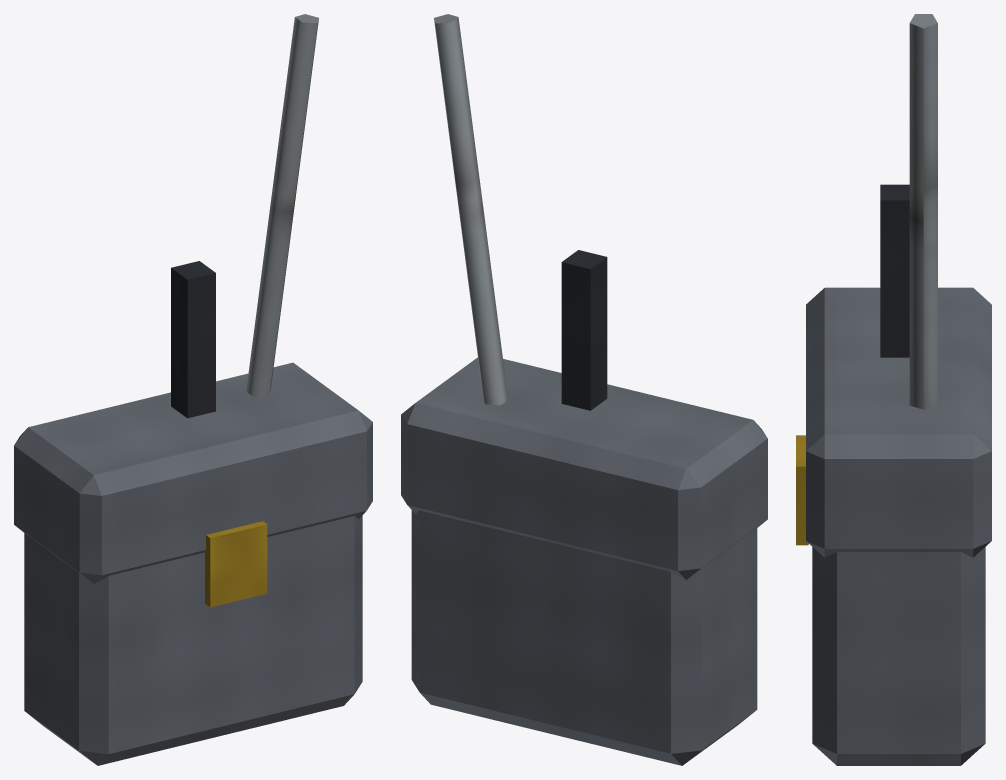
3 renders of one model, left to right at view 1: azimuth 30°, elevation 25°; view 2: azimuth 150°, elevation 25°; view 3: azimuth 270°, elevation 25°, orthographic. The views are drawn at different scales.
Visible parts, largest first — view 1: dweller_tool_scrapbag; view 2: dweller_tool_scrapbag; view 3: dweller_tool_scrapbag.
Part boxes in pixels (left/top/right/bottom): dweller_tool_scrapbag: left=14, top=14, right=372, bottom=765; dweller_tool_scrapbag: left=401, top=14, right=767, bottom=765; dweller_tool_scrapbag: left=796, top=14, right=991, bottom=765.
Size of the model in its own units: 0.31 by 0.6663 by 0.158.
4 materials, 4 textured.
